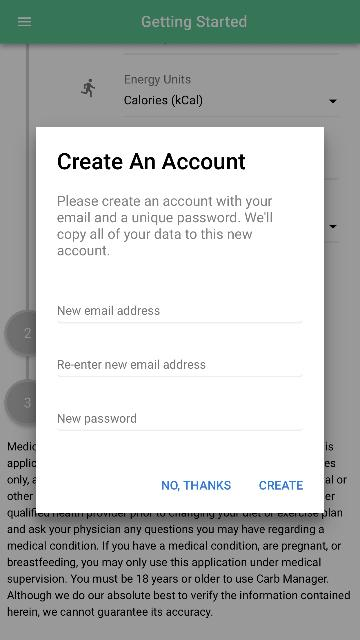EditText: (57, 413, 303, 431), (57, 359, 303, 377), (57, 305, 303, 323)
Icon: (81, 78, 95, 98), (18, 18, 31, 27), (329, 99, 337, 103)
Modal: (36, 127, 324, 513)
Text: (8, 524, 350, 616), (56, 195, 272, 255), (57, 153, 244, 170), (141, 15, 246, 30), (57, 359, 204, 368), (58, 305, 160, 315), (124, 95, 202, 107), (58, 413, 136, 425), (125, 74, 191, 86), (162, 481, 230, 492), (260, 480, 302, 490)
